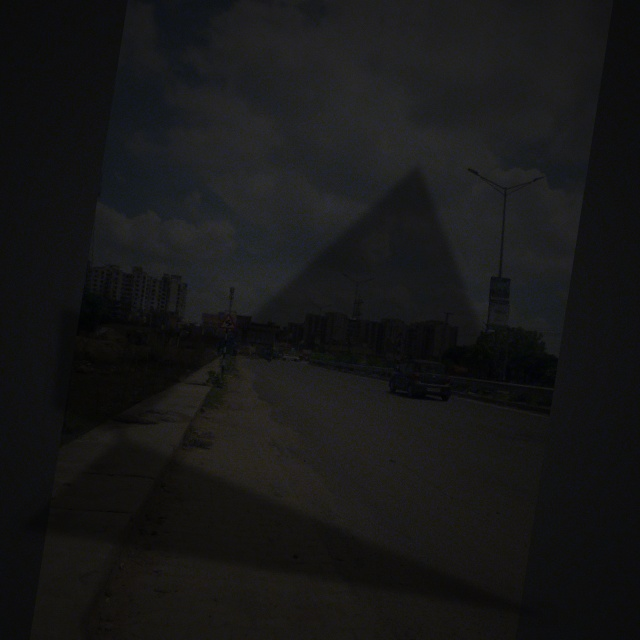Left_Reverse_Bend: (213, 309, 244, 336)
